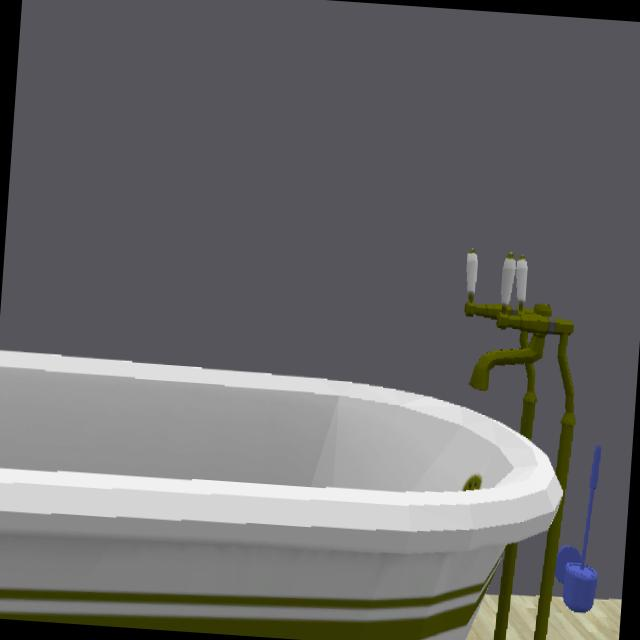bathtube: (0, 253, 576, 640)
